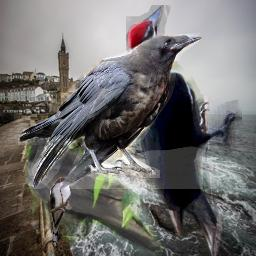Crow: (18, 33, 203, 189), (25, 127, 163, 252)
Cuckoo: (49, 176, 76, 246)
Woodpecker: (126, 5, 242, 256)
